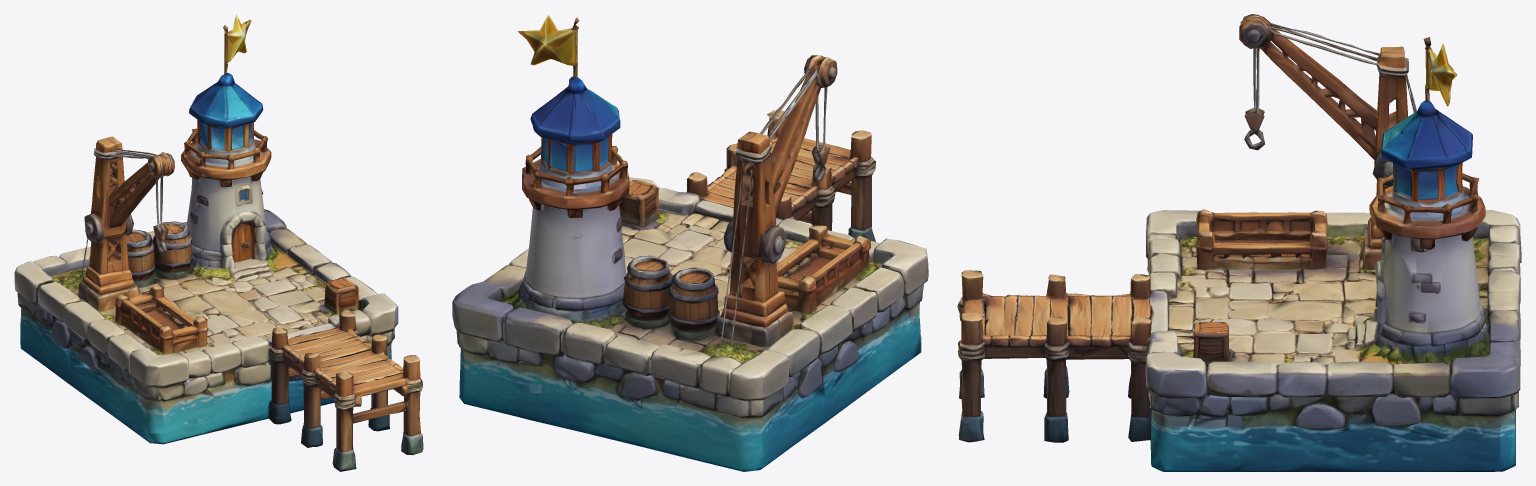
The model's file is port-high.glb.
3 renders of one model, left to right at view 1: azimuth 30°, elevation 25°; view 2: azimuth 150°, elevation 25°; view 3: azimuth 270°, elevation 25°, orthographic. The views are drawn at different scales.
Visible parts, largest first — view 1: tripo_node_9a656189-0ec0-41cd-8d83-53278e418af4; view 2: tripo_node_9a656189-0ec0-41cd-8d83-53278e418af4; view 3: tripo_node_9a656189-0ec0-41cd-8d83-53278e418af4.
Boxes of the visible parts, <box> form: tripo_node_9a656189-0ec0-41cd-8d83-53278e418af4: <box>14,14,423,471</box>; tripo_node_9a656189-0ec0-41cd-8d83-53278e418af4: <box>452,14,928,471</box>; tripo_node_9a656189-0ec0-41cd-8d83-53278e418af4: <box>957,14,1521,471</box>.
Size of the model in its own units: 0.676 by 0.776 by 0.9989.
1 material, 1 textured.
